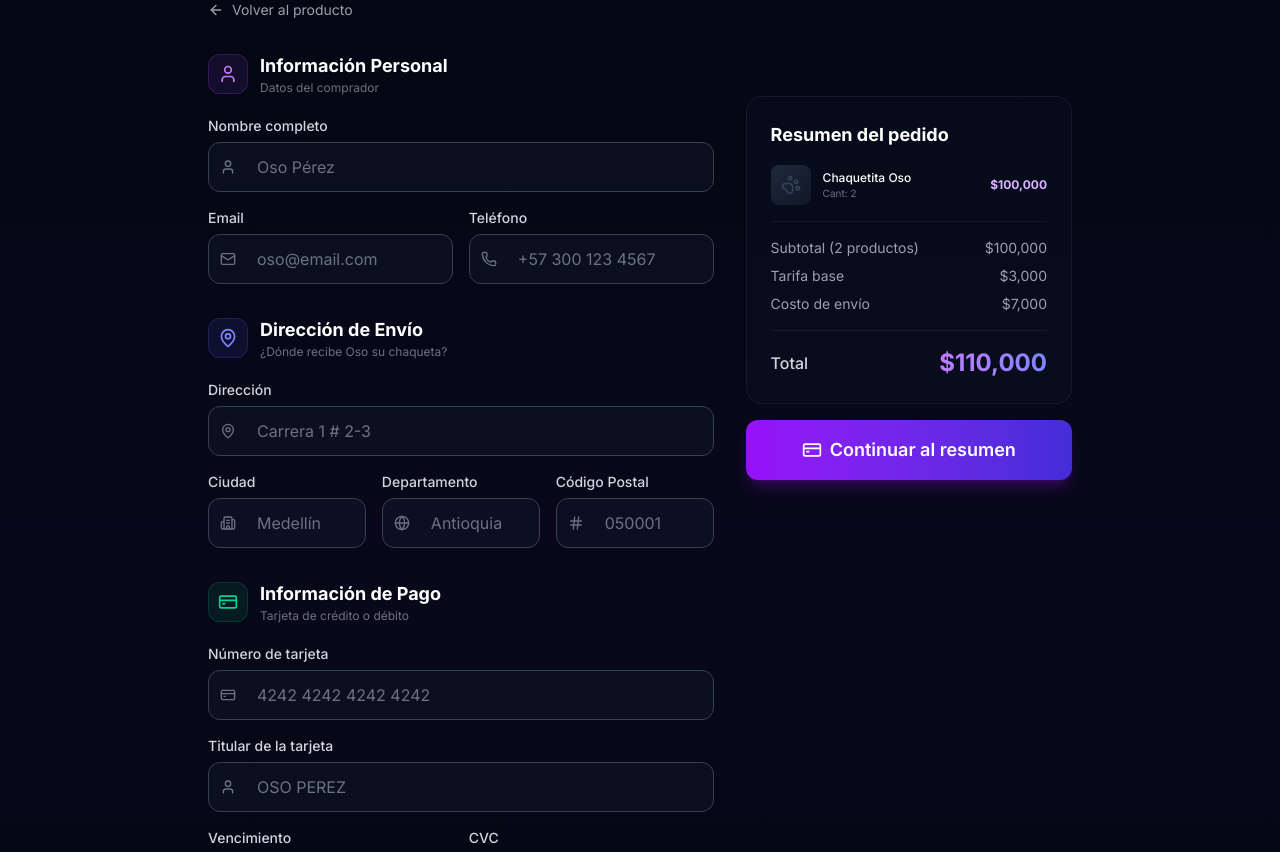
Test: CheckoutPage › should show validation errors when submitting empty form
Click the button "Continuar al resumen": (909,450) [746,420,1072,480]
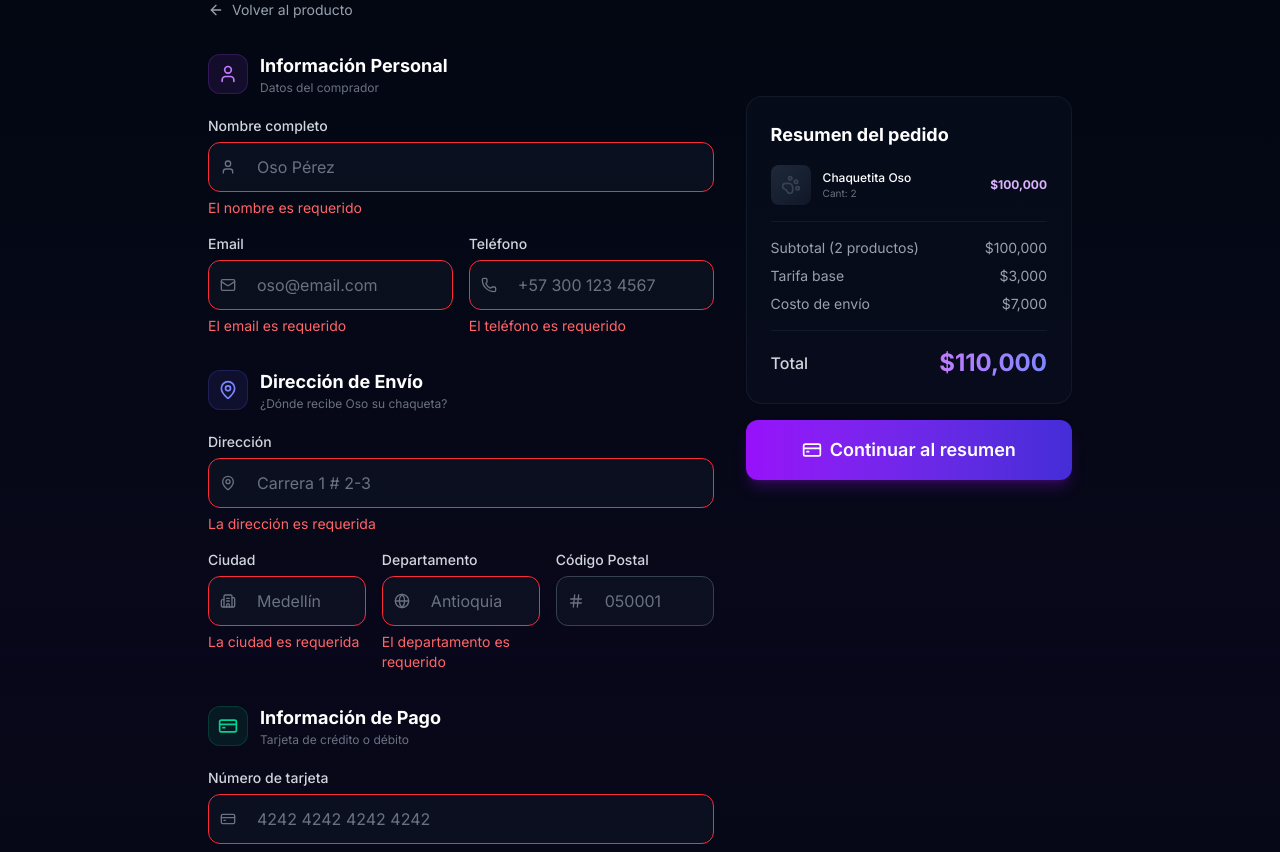
Now the text "El nombre es requerido" is shown, box [208,199,362,216]
